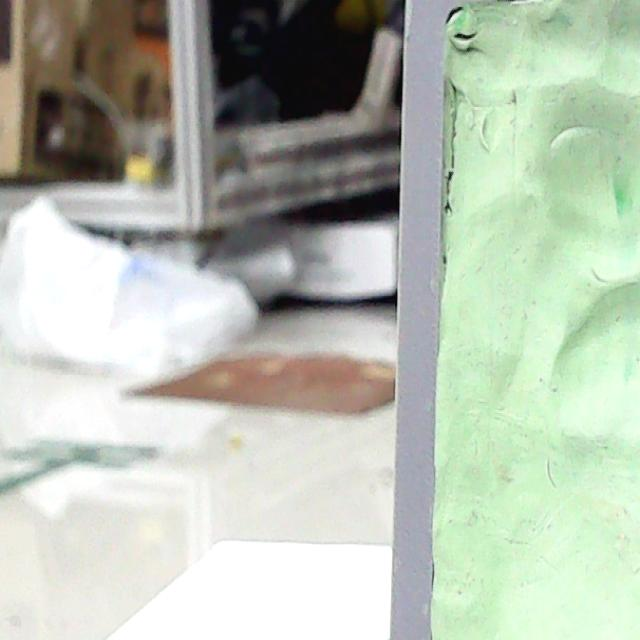block: (384, 0, 636, 640)
